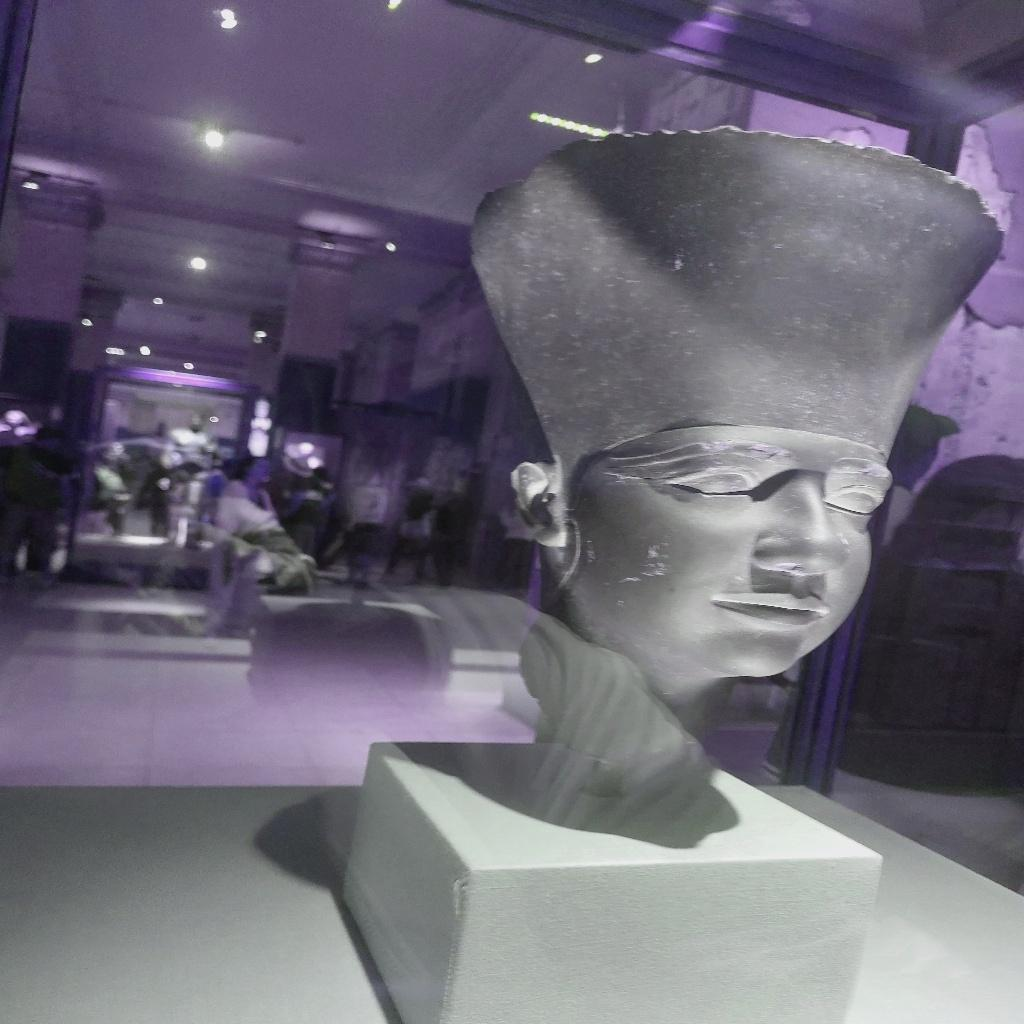Head of Userkaf: (464, 124, 1004, 692)
